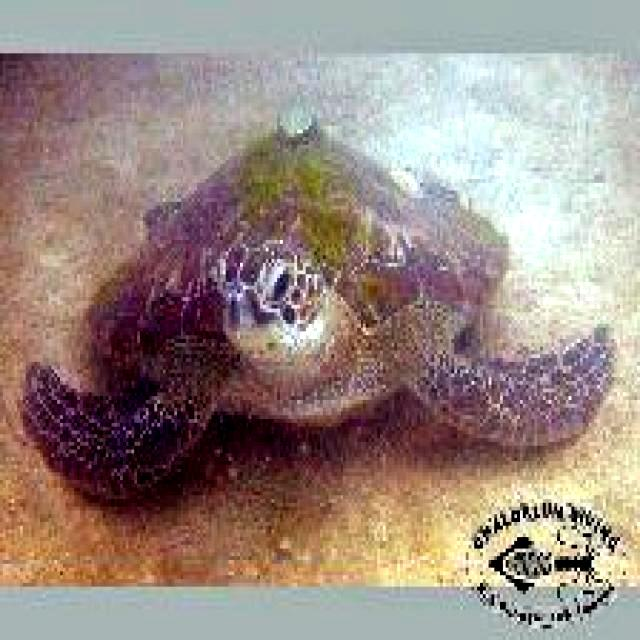Sea turtle: (19, 112, 616, 502)
